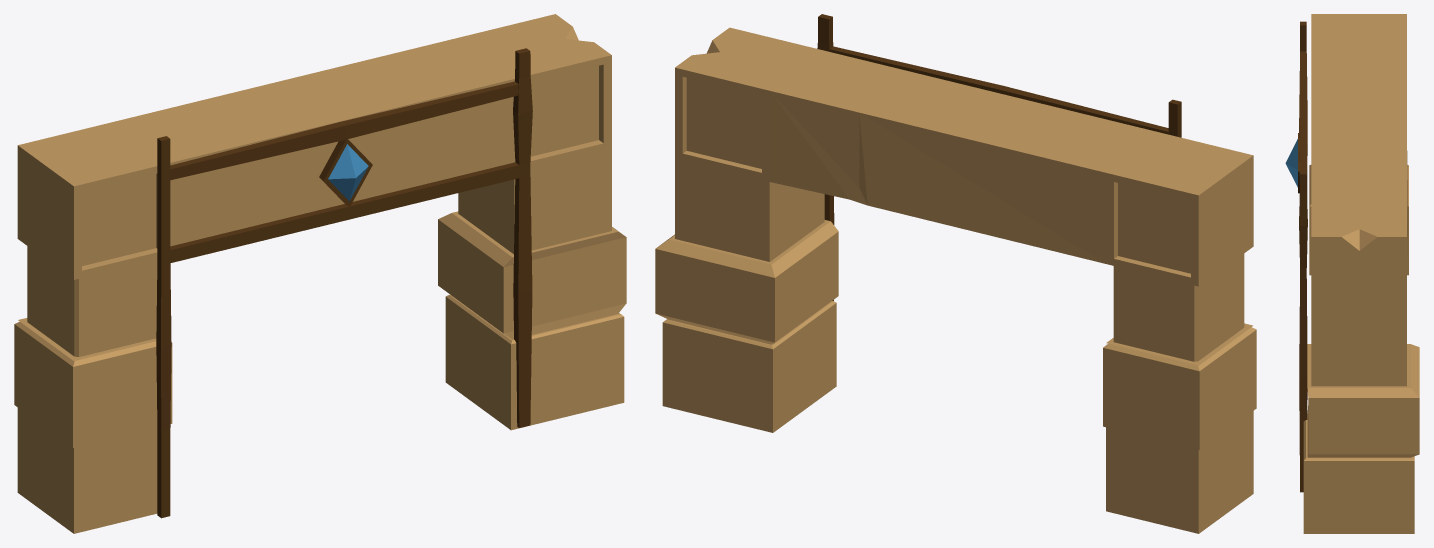
The model's file is EgyptDoorFrame.fbx.
3 views of the same model, side by side, from view 1: azimuth 30°, elevation 25°; view 2: azimuth 150°, elevation 25°; view 3: azimuth 270°, elevation 25° (orthographic). The views are drawn at different scales.
Visible parts, largest first — view 1: Gem.001; view 2: Gem.001; view 3: Gem.001.
Boxes of the visible parts, x1,y1,x2,y2 form: Gem.001: (14, 14, 626, 533); Gem.001: (655, 14, 1256, 533); Gem.001: (1285, 14, 1419, 533).
Size of the model in its own units: 567 by 370 by 140.
